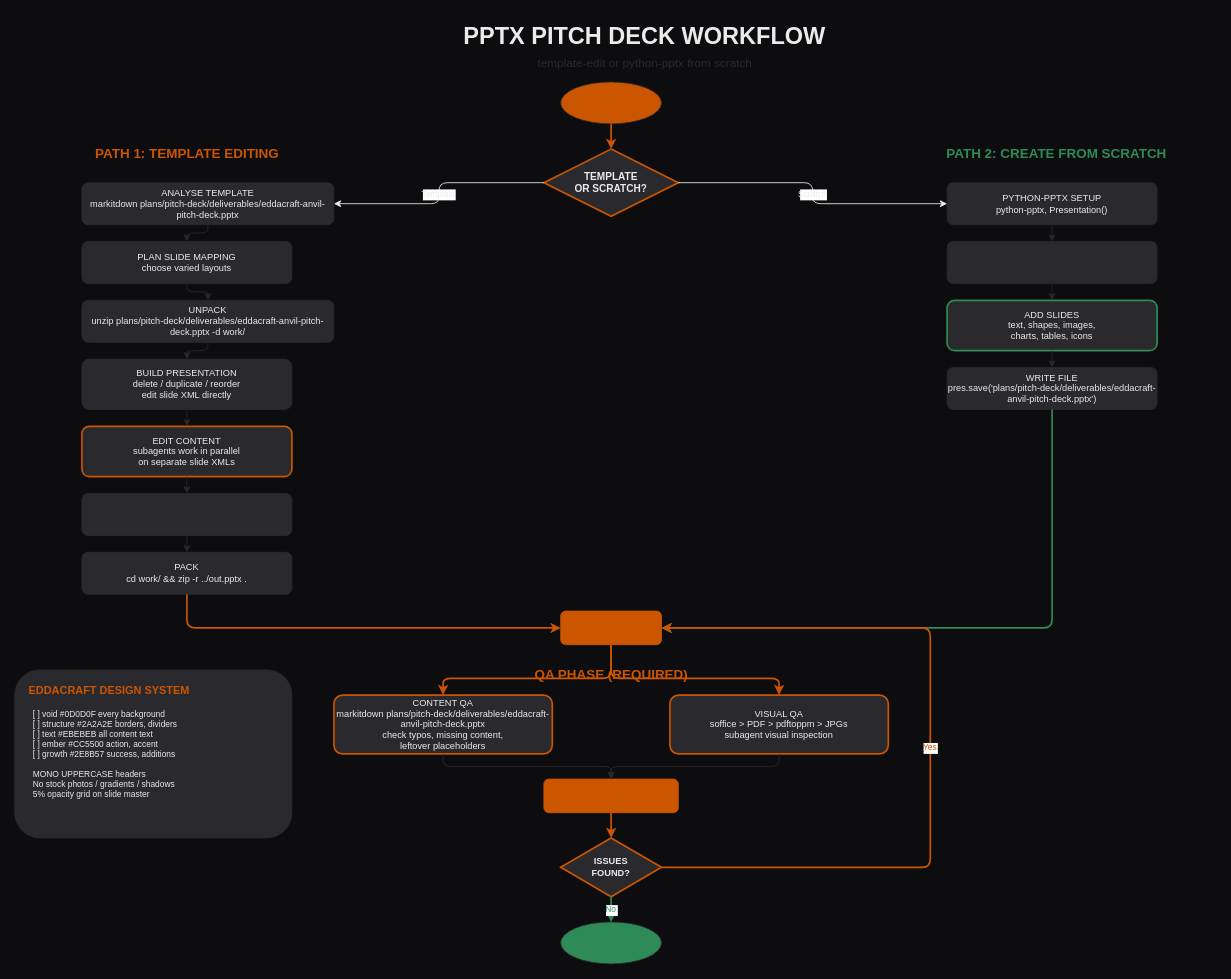
This 1231x979 diagram has some shape labels left out. The centre of each missing label's shape, as x and y in pixels:
.pptx: the point at 611,627
CLEAN remove unused media + rels: the point at 186,514
DEFINE SLIDE MASTERS backgrounds, placeholders: the point at 1051,262
DONE: the point at 611,942
FIX ISSUES: the point at 610,795
START: the point at 611,102
